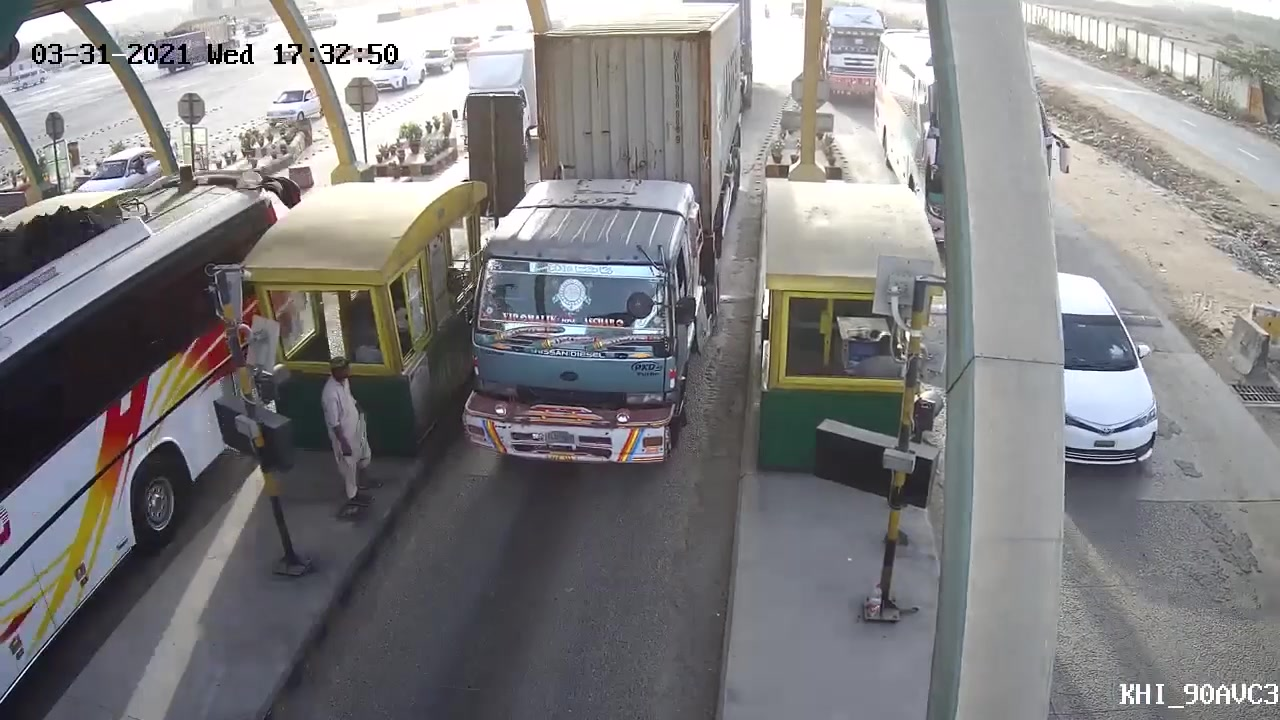F6: (468, 1, 744, 498)
